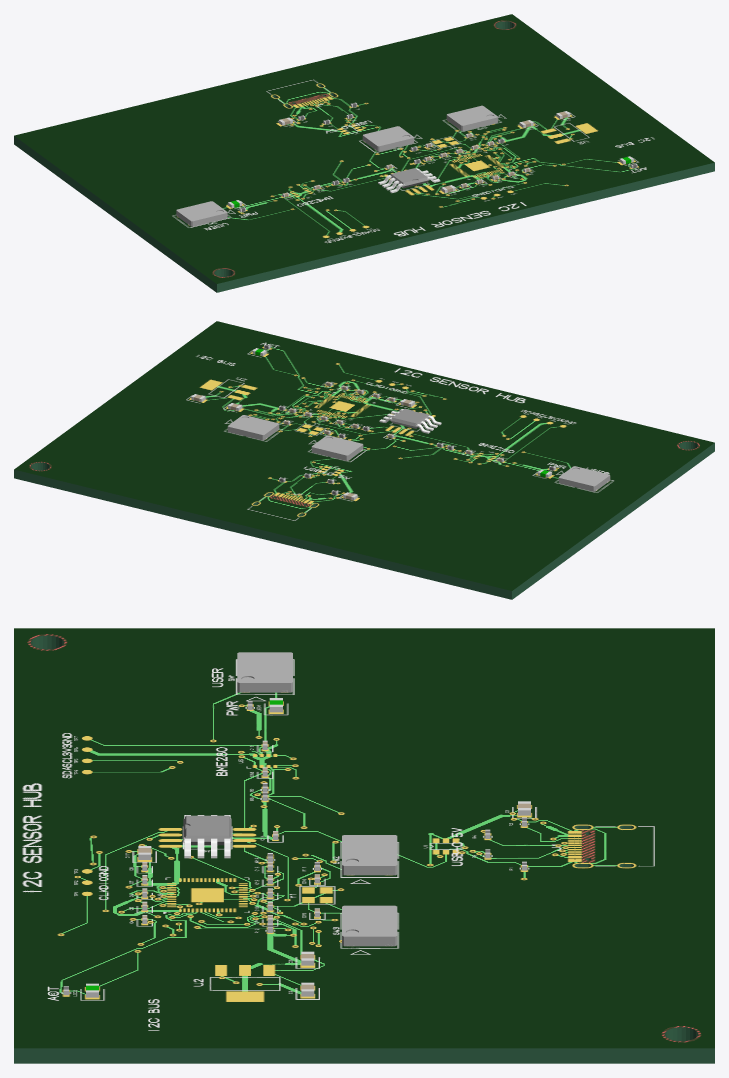
3 views of the same model, one above another, from view 1: azimuth 30°, elevation 25°; view 2: azimuth 150°, elevation 25°; view 3: azimuth 270°, elevation 25° (orthographic). The views are drawn at different scales.
Visible parts, largest first — view 1: Box0, SW2, SW3, SW1, U4; view 2: Box0, SW2, SW1, SW3, U4; view 3: Box0, SW3, SW2, SW1, U4.
Boxes of the visible parts, x1,y1,x2,y2 form: Box0: [14, 14, 714, 292]; SW2: [362, 126, 414, 151]; SW3: [446, 105, 498, 131]; SW1: [176, 201, 227, 226]; U4: [378, 168, 440, 193]; Box0: [14, 321, 714, 599]; SW2: [311, 435, 363, 460]; SW1: [558, 466, 610, 491]; SW3: [227, 415, 279, 440]; U4: [379, 408, 441, 433]; Box0: [14, 628, 714, 1063]; SW3: [342, 905, 397, 946]; SW2: [342, 835, 397, 875]; SW1: [237, 652, 292, 692]; U4: [183, 815, 231, 858].
Bounding box in the file's own units: 95 × 2.88 × 67.
10 materials, 2 textured.
